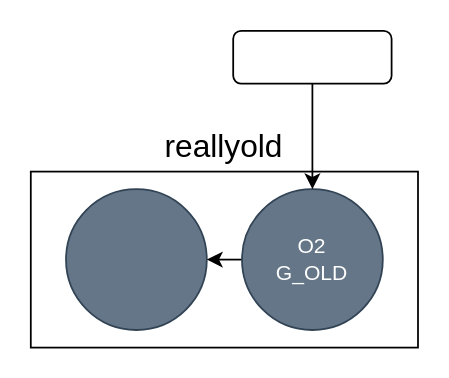
This 449x378 diagram has some shape labels left out. The centre of each missing label's shape, as x and y in pixels:
g->allgc: pixel 311 56
O1 G_OLD: pixel 135 258
